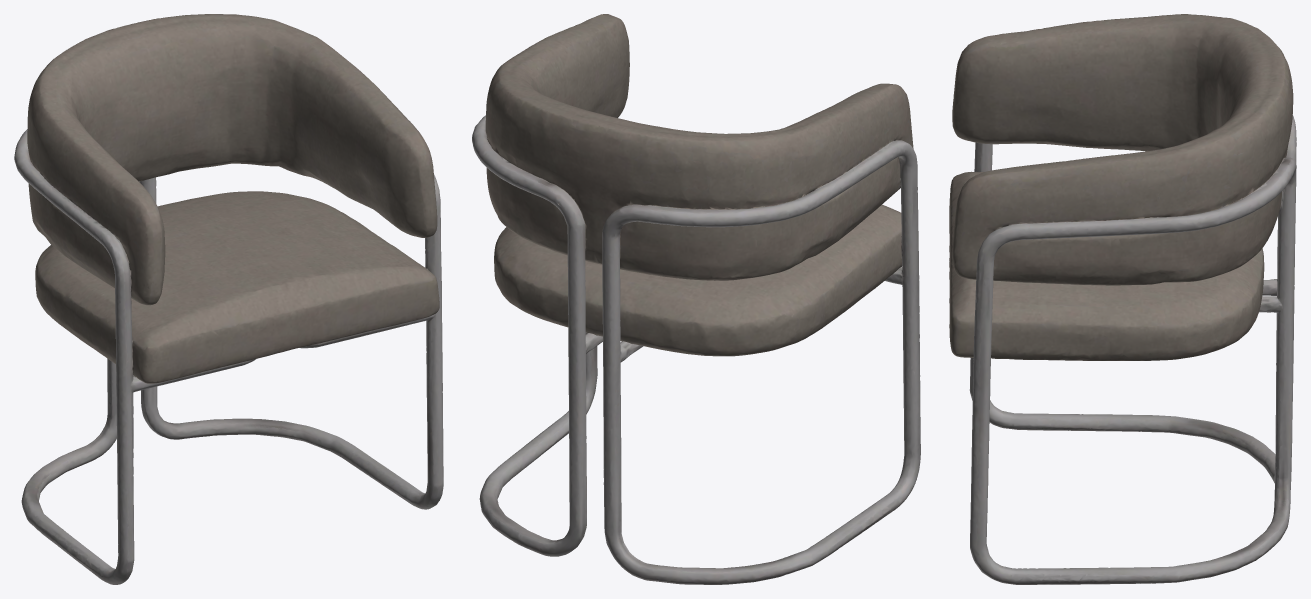
File: item-19.glb
The picture shows the model from 3 angles, left to right: view 1: azimuth 30°, elevation 25°; view 2: azimuth 150°, elevation 25°; view 3: azimuth 270°, elevation 25°; orthographic projection. The views are drawn at different scales.
Parts seen in each view (by area): view 1: geometry_0; view 2: geometry_0; view 3: geometry_0.
Boxes of the visible parts, bbox=[...] form: geometry_0: bbox=[14, 14, 443, 584]; geometry_0: bbox=[472, 14, 920, 584]; geometry_0: bbox=[949, 14, 1296, 584].
Size of the model in its own units: 0.7988 by 1 by 0.7214.
1 material, 1 textured.
